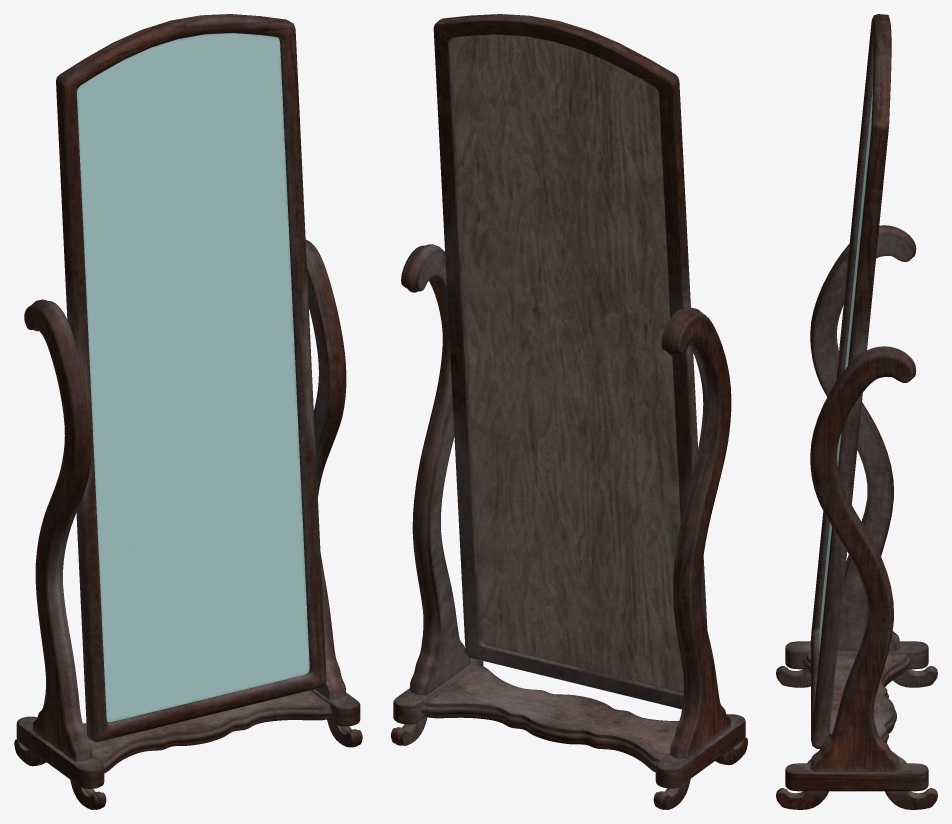
The model's file is Mirror3.fbx.
3 views of the same model, side by side, from view 1: azimuth 30°, elevation 25°; view 2: azimuth 150°, elevation 25°; view 3: azimuth 270°, elevation 25° (orthographic). The views are drawn at different scales.
Parts seen in each view (by area): view 1: mirrorAMirror, mirrorAFrame, mirrorAArms, mirrorABasePlate, mirrorALegs; view 2: mirrorAMirrorBack, mirrorAFrame, mirrorAArms, mirrorABasePlate, mirrorALegs; view 3: mirrorAArms, mirrorAFrame, mirrorABasePlate, mirrorALegs, mirrorAMirror.
Boxes of the visible parts, x1=… form: mirrorAMirror: x1=77, y1=33, x2=309, y2=722; mirrorAFrame: x1=56, y1=14, x2=326, y2=742; mirrorAArms: x1=24, y1=239, x2=346, y2=761; mirrorABasePlate: x1=16, y1=689, x2=360, y2=788; mirrorALegs: x1=14, y1=719, x2=362, y2=809; mirrorAMirrorBack: x1=450, y1=34, x2=683, y2=692; mirrorAFrame: x1=433, y1=14, x2=707, y2=709; mirrorAArms: x1=401, y1=244, x2=731, y2=758; mirrorABasePlate: x1=393, y1=658, x2=745, y2=788; mirrorALegs: x1=391, y1=717, x2=747, y2=809; mirrorAArms: x1=810, y1=225, x2=916, y2=771; mirrorAFrame: x1=811, y1=14, x2=891, y2=748; mirrorABasePlate: x1=785, y1=641, x2=928, y2=791; mirrorALegs: x1=776, y1=666, x2=937, y2=809; mirrorAMirror: x1=819, y1=87, x2=872, y2=654.
Size of the model in its own units: 71.62 by 176 by 36.77.
